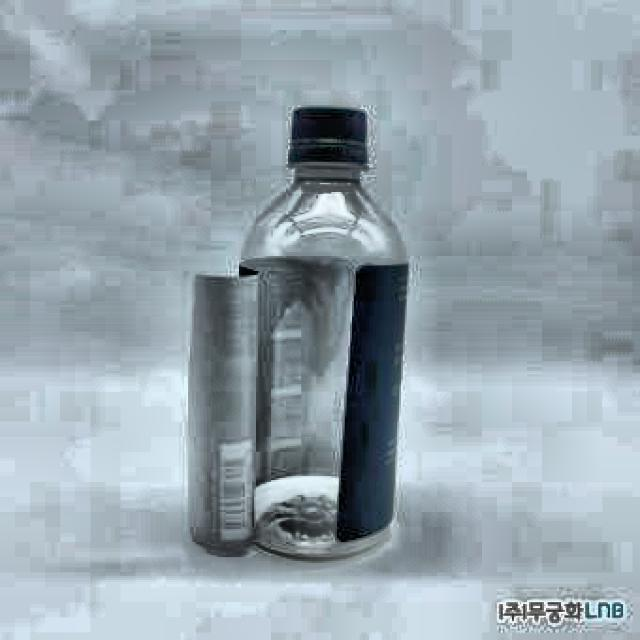Bottles: (221, 89, 407, 569)
